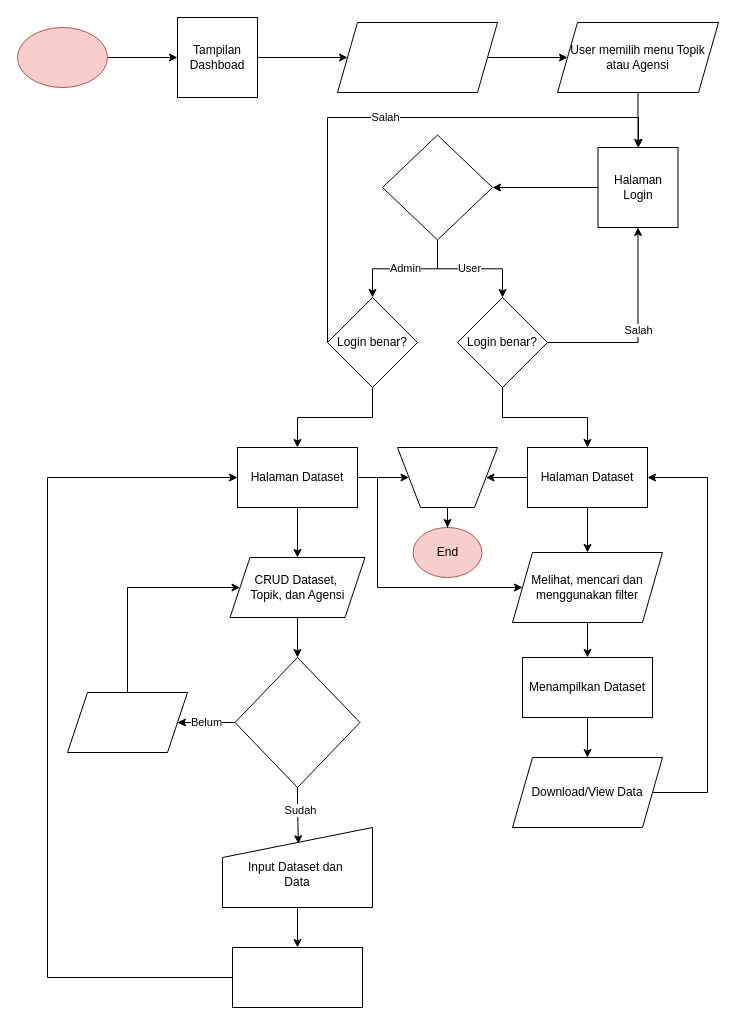
Image size: 736x1025. Some labels were removed from this diagram. The shapes that lost their labels are listed below. From the top down, each one's centre as x and y in pixels, then its label:
At (x=62, y=57): "Start".
At (x=417, y=57): "Menampilkan Topik dan Agensi dataset".
At (x=437, y=187): "Login sebagai?".
At (x=447, y=477): "Logout".
At (x=127, y=722): "Input Agensi dan Topik".
At (x=297, y=722): "Apakah sudah ada Agensi atau topik?".
At (x=297, y=977): "Data masuk ke database".
